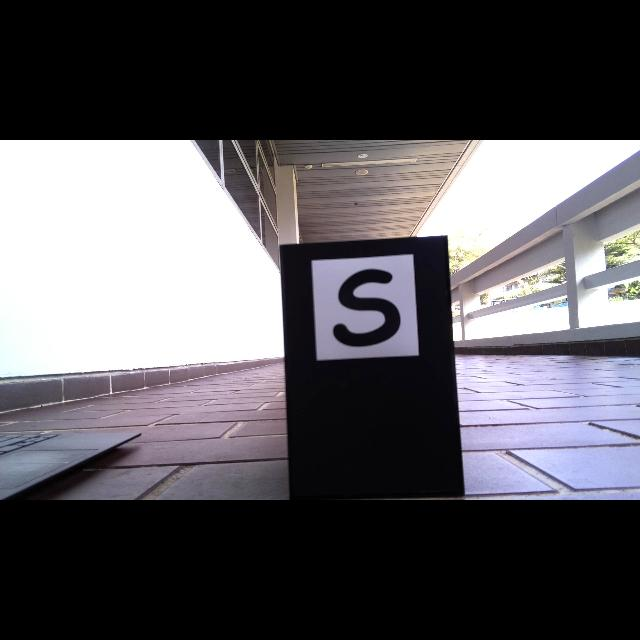S: (331, 268, 402, 346)
